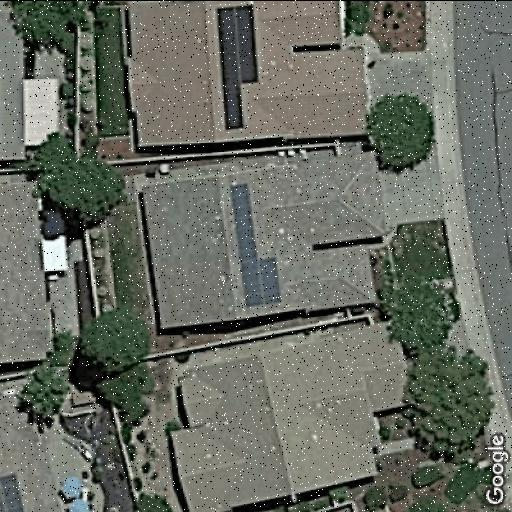solar-panel: (229, 178, 283, 310), (214, 3, 263, 132), (0, 464, 26, 512)
